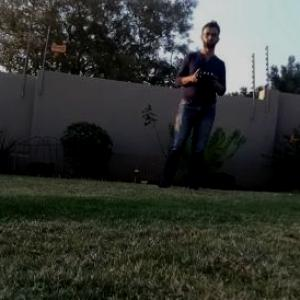follow: (151, 11, 229, 194)
